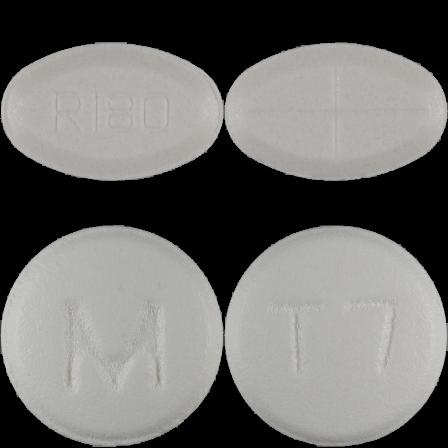76237-252: (0, 0, 224, 224)
